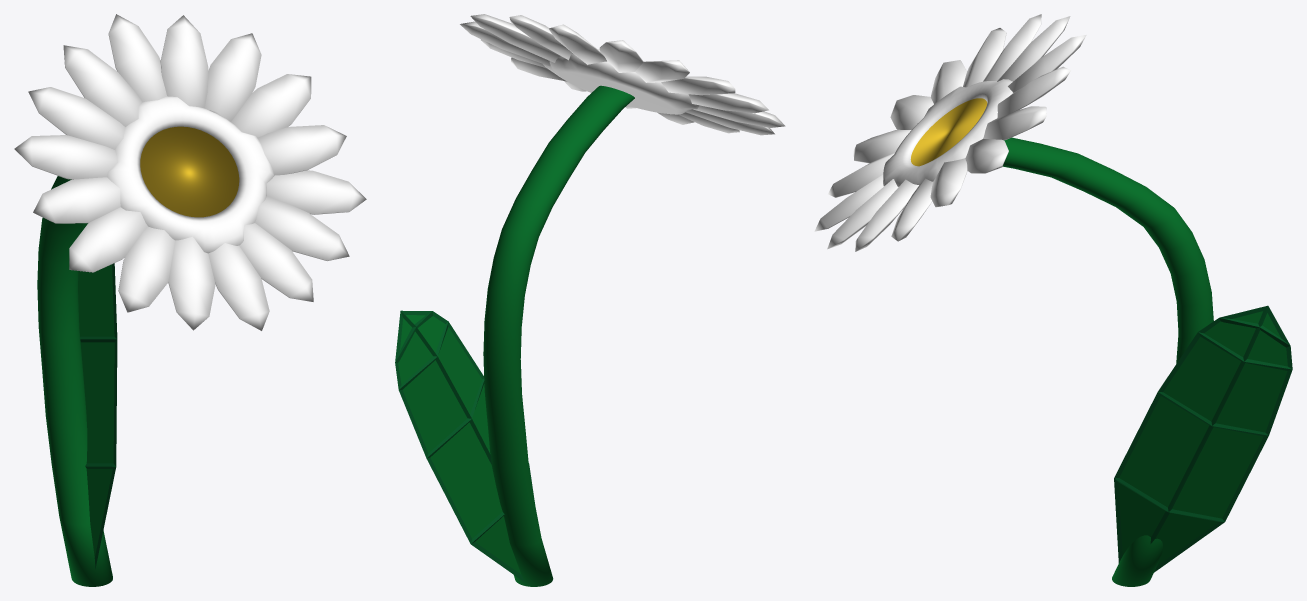
The model's file is kwiatuszek.fbx.
3 views of the same model, side by side, from view 1: azimuth 30°, elevation 25°; view 2: azimuth 150°, elevation 25°; view 3: azimuth 270°, elevation 25° (orthographic). The views are drawn at different scales.
Visible parts, largest first — view 1: Torus; view 2: Torus; view 3: Torus.
Part boxes in pixels (x1=…): Torus: x1=14, y1=14, x2=366, y2=586; Torus: x1=395, y1=14, x2=785, y2=586; Torus: x1=814, y1=14, x2=1292, y2=586.
Bounding box in the file's own units: 1744 × 3086 × 2460.
